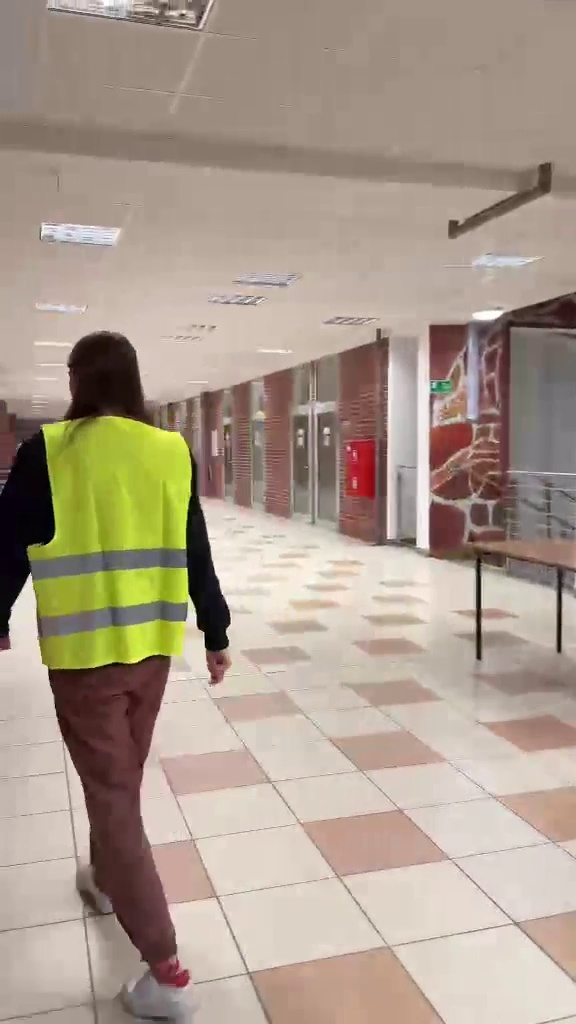vest: (8, 324, 239, 1001)
